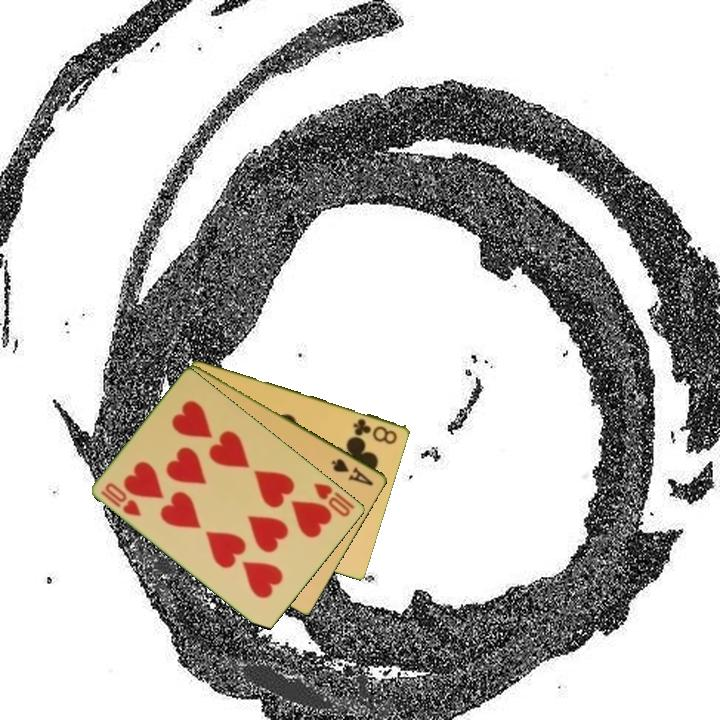10h: (310, 479, 358, 520), (98, 479, 144, 519)
8c: (350, 415, 400, 447)
As: (328, 455, 377, 489)
